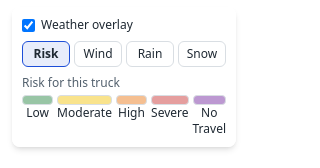
Test: HeatmapControls › hides the overlay and its legend with the toggle
The width and height of the screenshot is (320, 168).
Click the checkbox labelled "Weather overlay": (28, 25) 22,18 -> 35,32
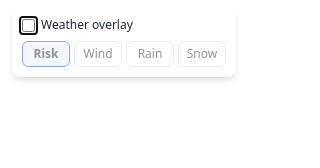
Expected: the radio button labelled "Snow" is disabled, 178,41 -> 226,67
